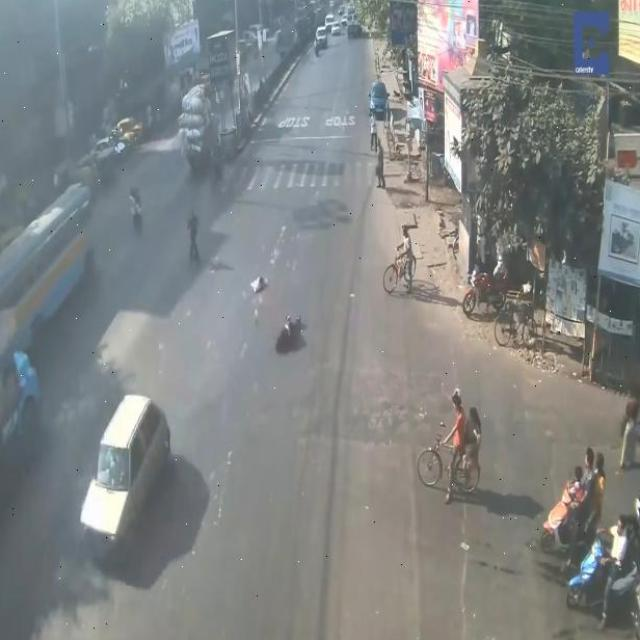accident: (77, 385, 181, 559), (274, 297, 310, 359)
